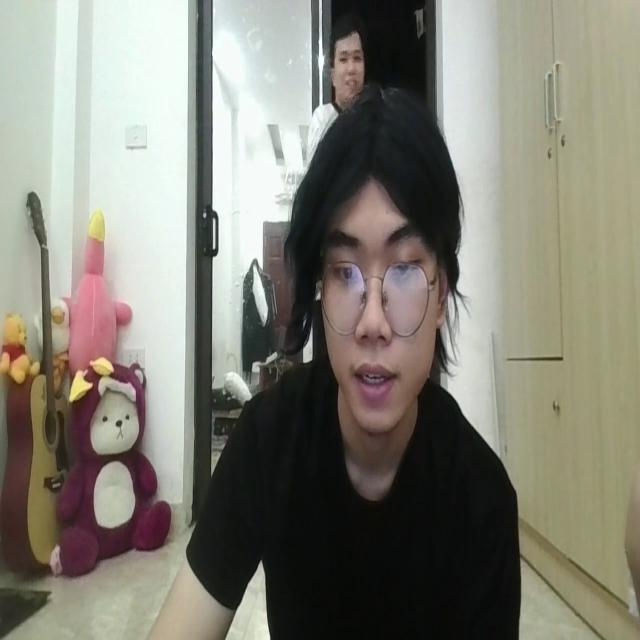student: (133, 88, 521, 640)
